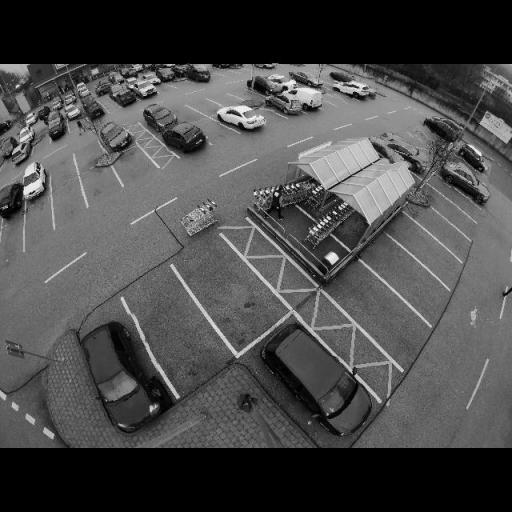busy: (260, 318, 377, 440), (78, 312, 160, 428), (442, 160, 490, 202), (386, 134, 430, 170), (18, 162, 52, 202), (164, 122, 209, 152), (218, 104, 265, 132), (97, 118, 135, 152), (140, 102, 180, 128), (334, 78, 376, 101), (0, 180, 22, 217), (268, 93, 303, 115), (424, 119, 460, 140), (459, 145, 488, 170), (250, 76, 284, 96), (46, 113, 70, 138), (184, 64, 214, 83), (113, 88, 138, 110), (291, 69, 323, 86), (271, 72, 297, 91), (134, 81, 159, 98), (86, 99, 106, 119), (64, 105, 85, 121), (328, 70, 352, 84), (156, 68, 176, 82), (256, 64, 278, 70)
free: (146, 303, 198, 347), (198, 264, 252, 306), (357, 292, 400, 328), (386, 260, 420, 287), (55, 189, 84, 216), (26, 210, 52, 236), (50, 159, 76, 182), (414, 236, 439, 258), (88, 173, 115, 193), (1, 226, 23, 248), (121, 156, 146, 175), (76, 145, 100, 164), (255, 104, 276, 124), (446, 187, 468, 205), (414, 126, 434, 144), (200, 121, 222, 135), (440, 201, 458, 218), (408, 134, 426, 150), (431, 220, 451, 234), (324, 94, 340, 108), (332, 93, 352, 104), (218, 96, 236, 106), (198, 102, 215, 112), (178, 110, 192, 119)
